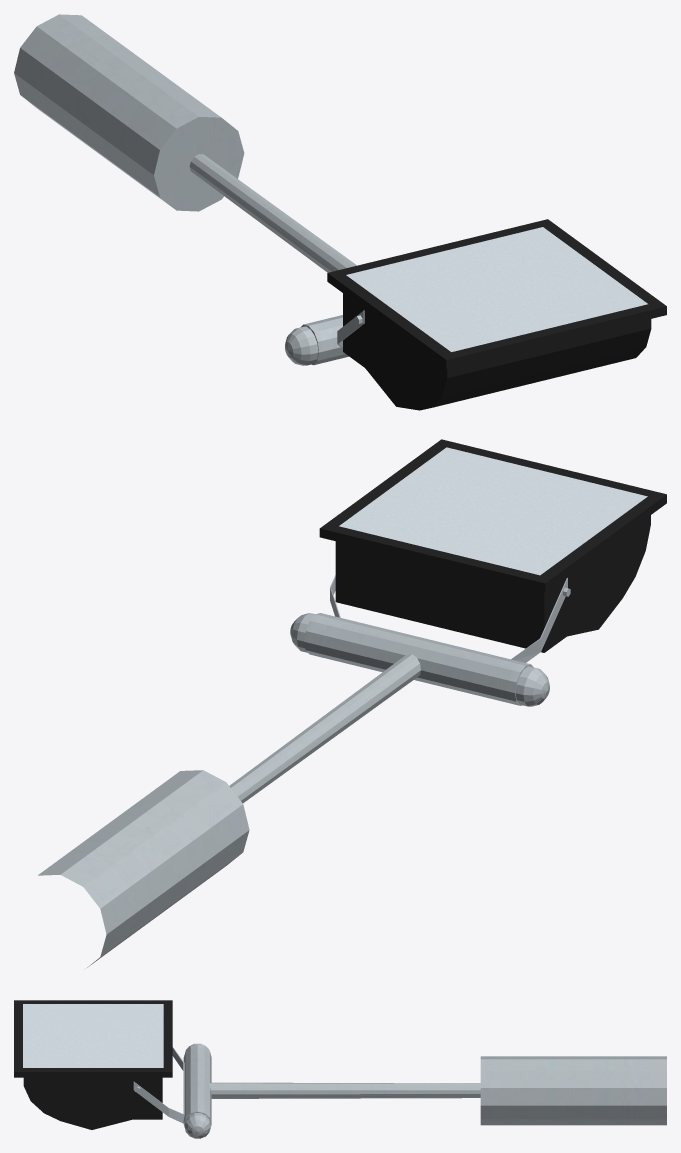
Rendered from qt-zm-038-geode.glb.
3 views of the same model, one above another, from view 1: azimuth 30°, elevation 25°; view 2: azimuth 150°, elevation 25°; view 3: azimuth 270°, elevation 25° (orthographic). The views are drawn at different scales.
Parts seen in each view (by area): view 1: Node; view 2: Node; view 3: Node.
Boxes of the visible parts, x1,y1,x2,y2 form: Node: (14,14,666,410); Node: (38,439,666,967); Node: (14,1000,666,1138).
Bounding box in the file's own units: 0.3814 × 0.195 × 1.3.
Materials: 3 (3 with a texture image).
